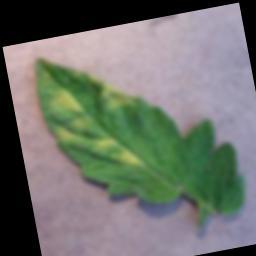Leaf_Mold: (83, 61, 140, 114), (88, 130, 145, 173), (45, 82, 88, 122), (51, 115, 95, 145)
